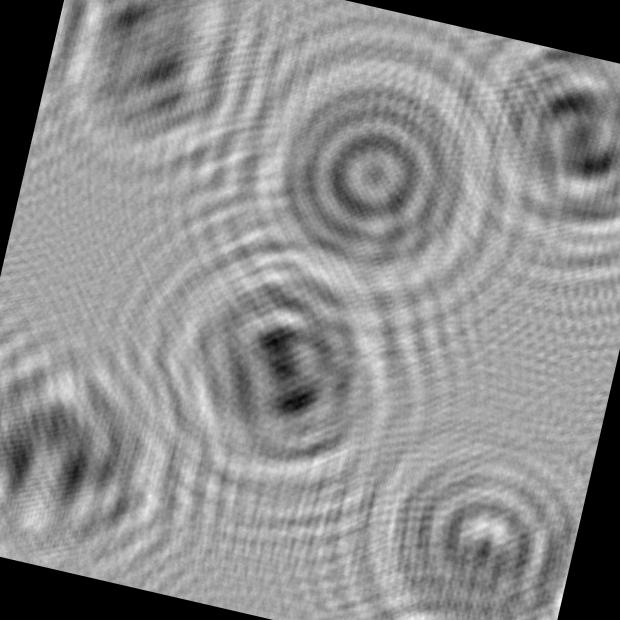B: (96, 192, 454, 550)
C: (337, 403, 595, 620)
M: (0, 308, 213, 593)
Q: (186, 1, 541, 346)
S: (437, 31, 620, 269)
Z: (28, 0, 296, 202)
